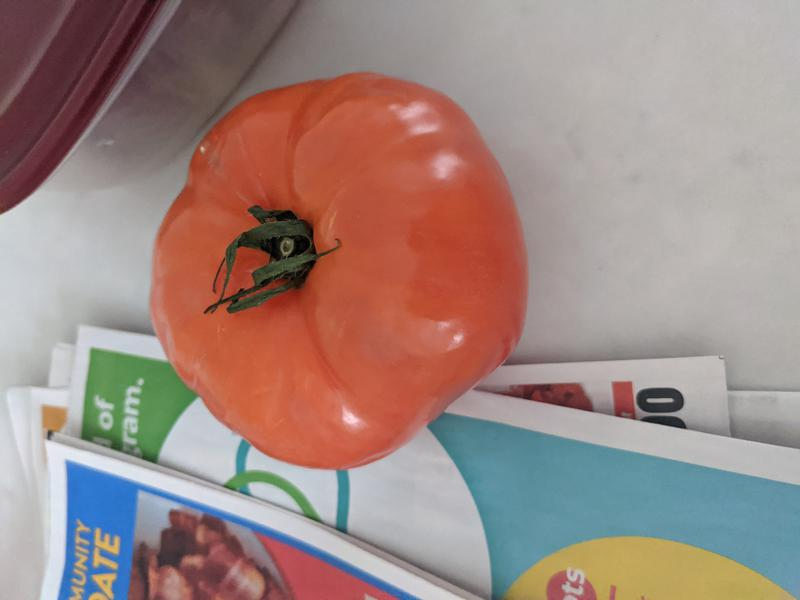tomato: (149, 71, 531, 470)
